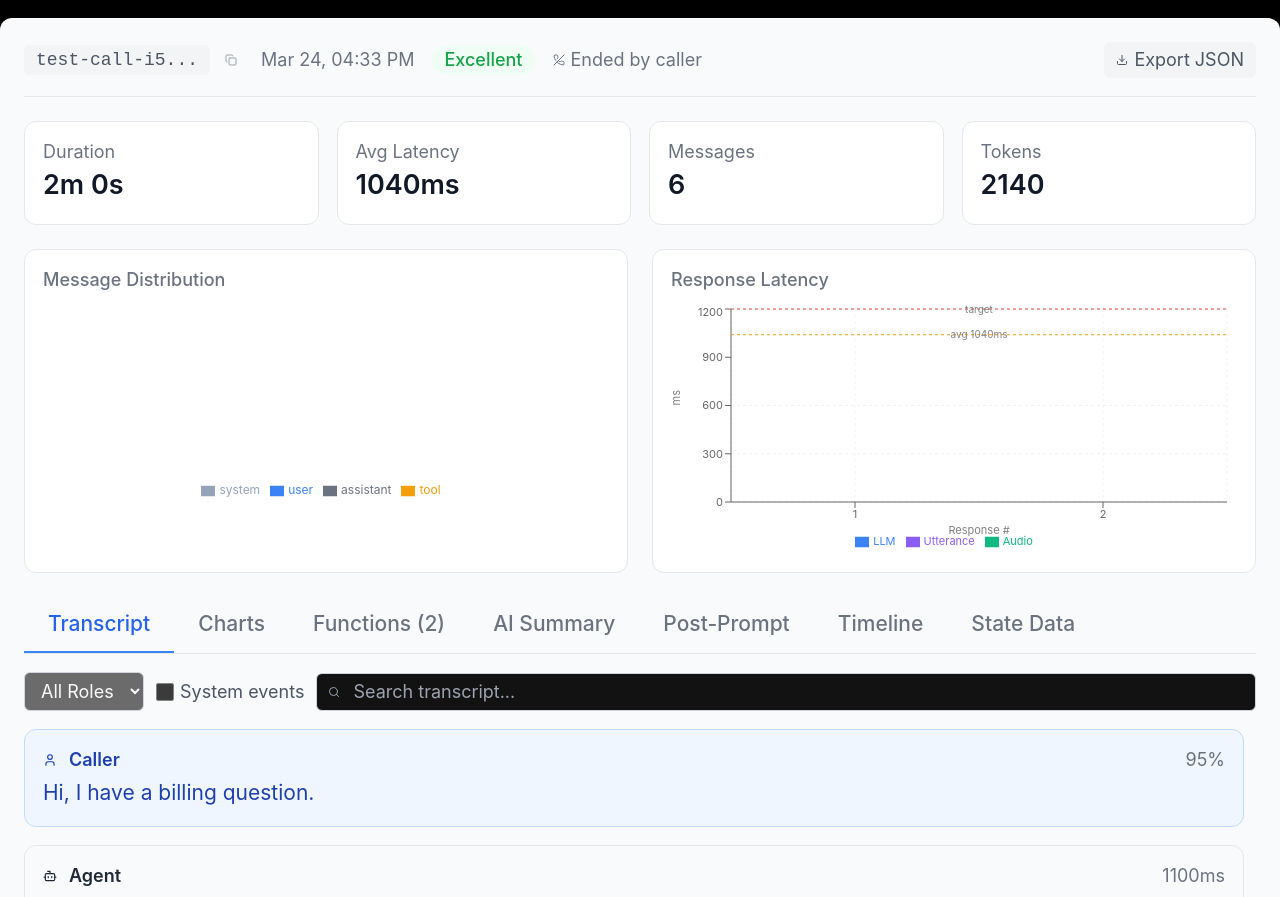
Test: CallDetail › switches tabs on click
Click the button "AI Summary".
click(554, 625)  # box [469,597,639,653]
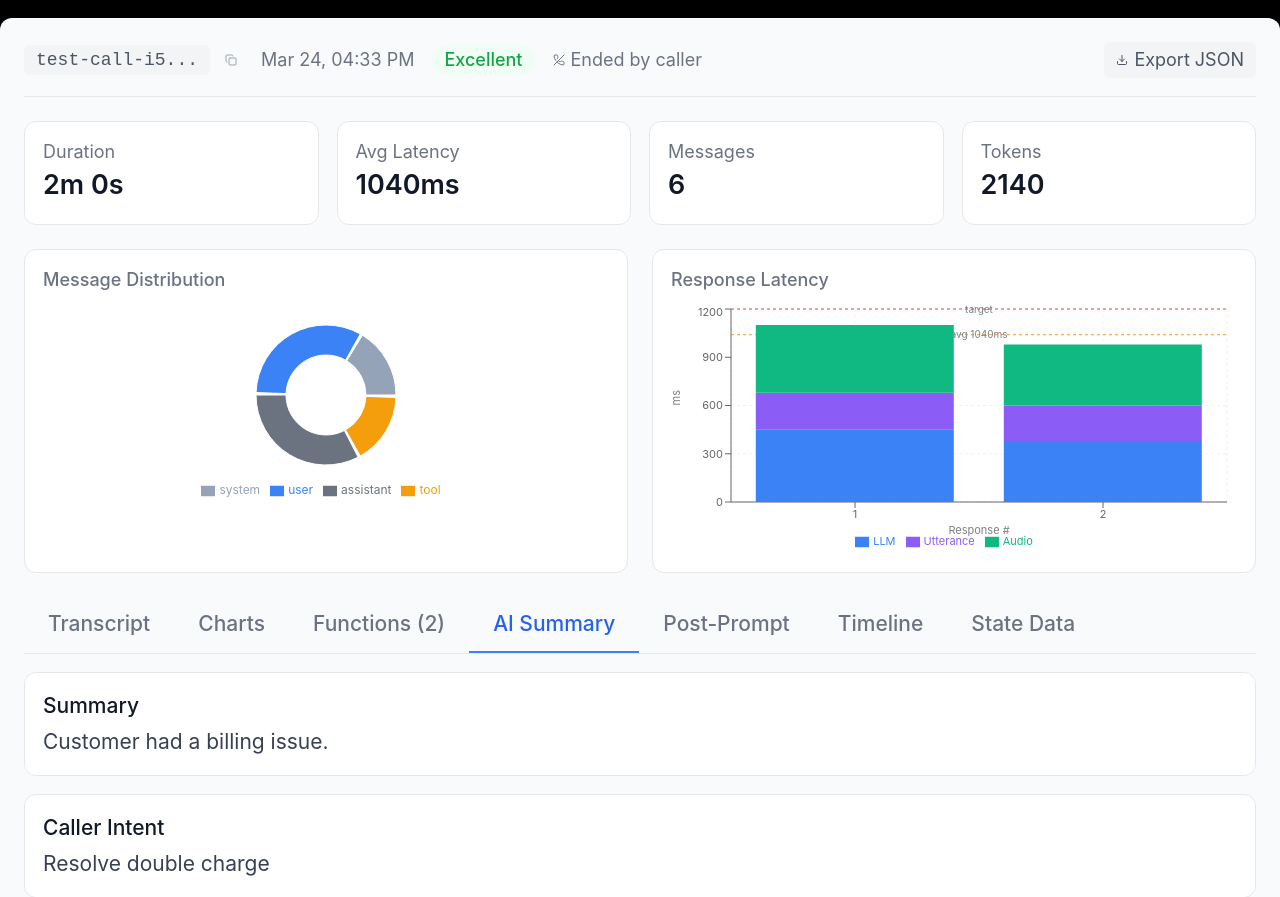
Now the text "Customer had a billing issue." is shown, box [43,729,329,754]
